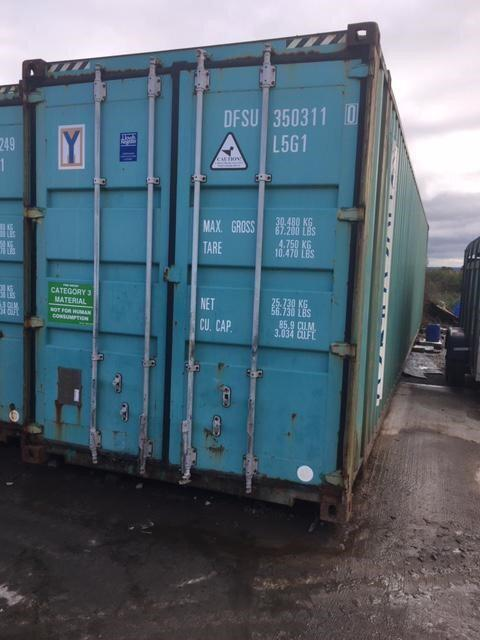ContainerNum: (221, 102, 360, 155)
